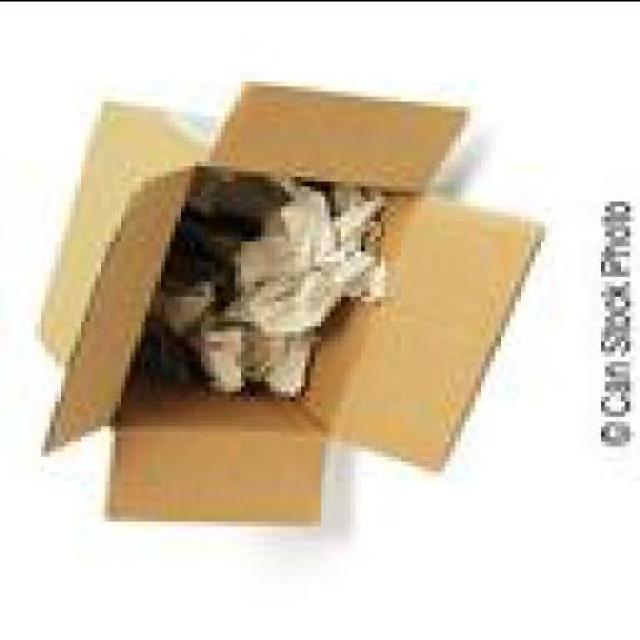cardboard: (31, 84, 546, 524)
paper: (229, 195, 380, 340), (184, 306, 304, 406), (146, 266, 211, 366), (191, 166, 271, 231), (187, 220, 236, 295)
